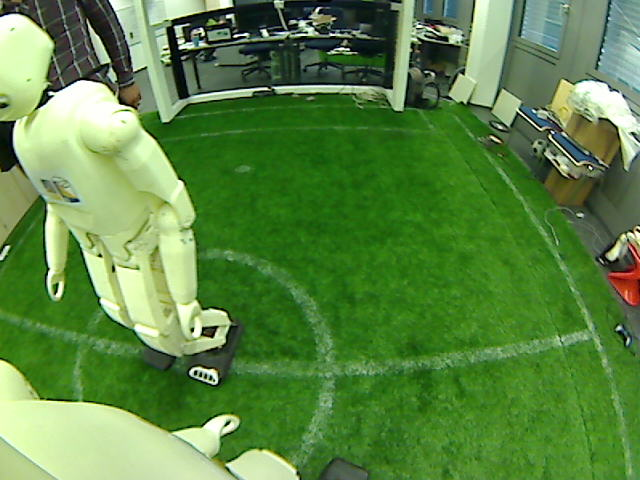ball: (525, 132, 552, 159)
goalpost: (388, 64, 411, 113), (157, 90, 174, 124)
robot: (166, 305, 232, 380)
